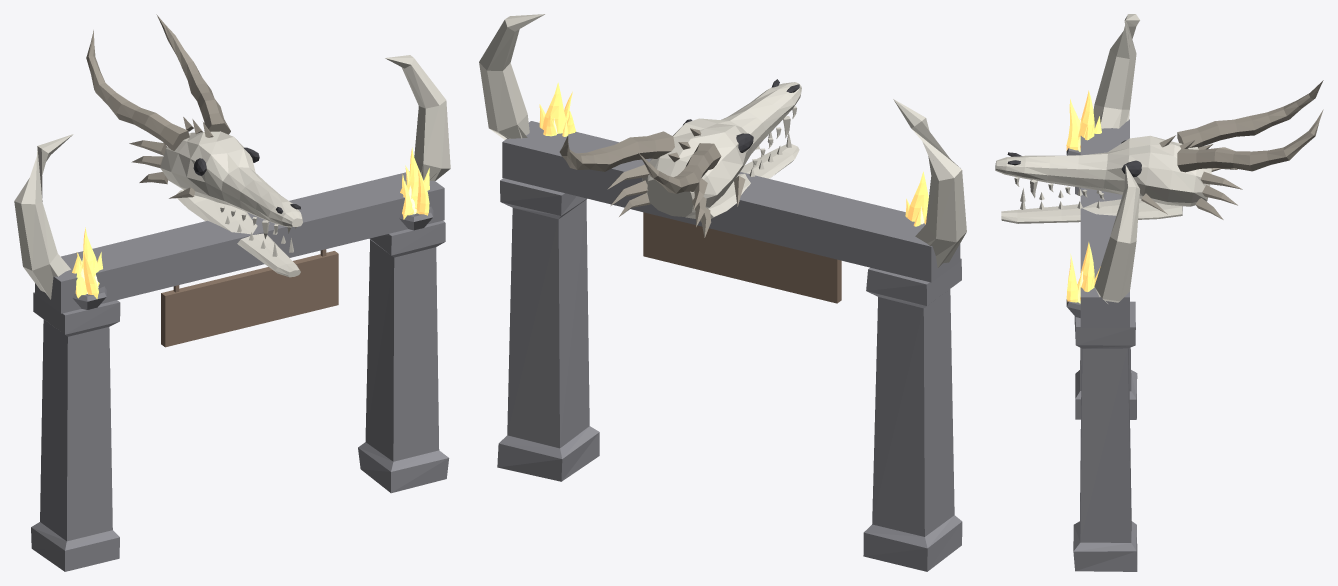
Rendered from Gate_Lair_v2.glb.
3 renders of one model, left to right at view 1: azimuth 30°, elevation 25°; view 2: azimuth 150°, elevation 25°; view 3: azimuth 270°, elevation 25°, orthographic. The views are drawn at different scales.
Parts seen in each view (by area): view 1: Stone, Bones, Sign, Horns, Flame; view 2: Stone, Bones, Sign, Horns, Flame; view 3: Stone, Bones, Horns, Flame.
Boxes of the visible parts, x1,y1,x2,y2 form: Stone: (31,171,449,571); Bones: (14,55,450,299); Sign: (161,249,338,347); Horns: (86,14,230,198); Flame: (72,147,429,298); Stone: (497,121,962,571); Bones: (479,14,966,267); Sign: (643,212,841,303); Horns: (559,128,745,237); Flame: (539,82,928,226); Stone: (1066,119,1137,571); Bones: (995,14,1211,303); Horns: (1141,80,1323,219); Flame: (1066,90,1101,302).
Size of the model in its own units: 20.83 by 19.2 by 14.65.
